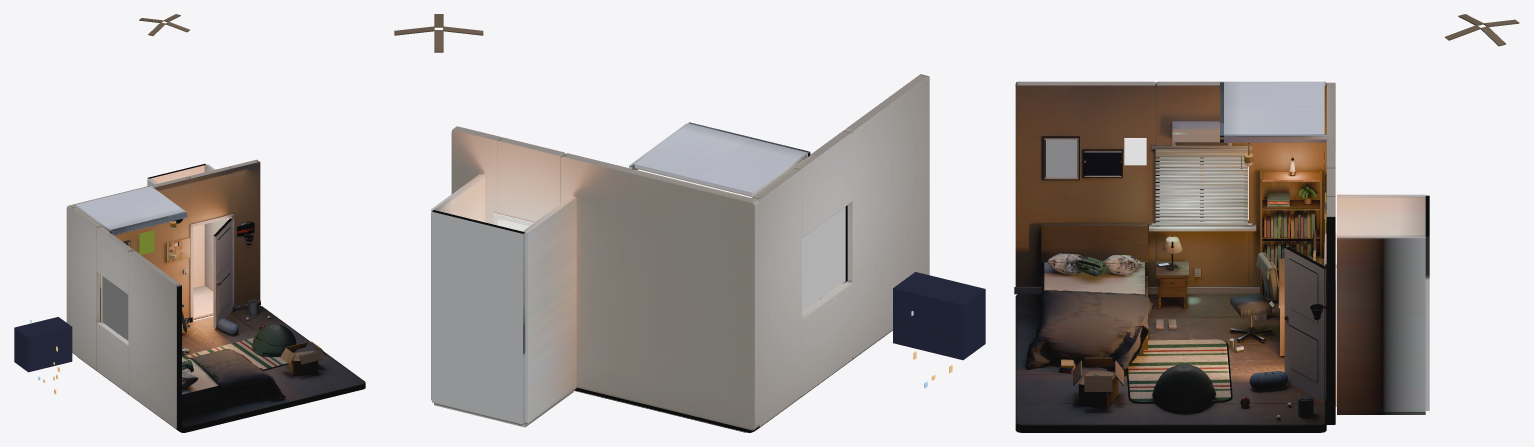
File: bedroom.glb
The picture shows the model from 3 angles, left to right: view 1: azimuth 30°, elevation 25°; view 2: azimuth 150°, elevation 25°; view 3: azimuth 270°, elevation 25°; orthographic projection. The views are drawn at different scales.
Visible parts, largest first — view 1: wL_front.001, g_shell, floor.002, g_bed, wL_back.001, wB_left.001, wB_right.001, g_props, bk_base.001, wB_above.001, wL_below.001, wL_above.001 (+4 smaller); view 2: wB_left.001, g_shell, wL_front.001, wL_back.001, bk_base.001, wB_above.001, wL_below.001, wL_above.001, win_glass.001, wB_right.001, floor.002; view 3: g_shell, g_bed, floor.002, wL_front.001, g_desk, g_props, wL_below.001, rug_fur.001, wL_back.001, wL_above.001, wB_right.001, win_glass.001 (+4 smaller).
Part boxes in pixels (x1,y1,x2,y2): wL_front.001: (128, 250, 181, 428); g_shell: (75, 164, 260, 428); floor.002: (77, 305, 365, 432); g_bed: (182, 222, 285, 412); wL_back.001: (70, 207, 101, 370); wB_left.001: (66, 176, 191, 324); wB_right.001: (229, 159, 260, 306); g_props: (190, 214, 326, 399); bk_base.001: (14, 317, 72, 372); wB_above.001: (189, 166, 231, 223); wL_below.001: (96, 322, 128, 393); wL_above.001: (96, 227, 133, 294); wB_left.001: (560, 153, 759, 430); g_shell: (431, 122, 847, 427); wL_front.001: (845, 74, 929, 358); wL_back.001: (752, 167, 801, 426); bk_base.001: (893, 272, 985, 360); wB_above.001: (497, 137, 565, 222); wL_below.001: (802, 281, 852, 395); wL_above.001: (794, 130, 852, 237); win_glass.001: (802, 208, 844, 311); wB_right.001: (451, 126, 501, 224); floor.002: (573, 330, 892, 432); g_shell: (1014, 81, 1429, 414); g_bed: (1026, 121, 1326, 407); floor.002: (1015, 294, 1326, 432); wL_front.001: (1015, 81, 1156, 286); g_desk: (1229, 151, 1326, 355); g_props: (1073, 233, 1336, 418); wL_below.001: (1156, 220, 1248, 286); rug_fur.001: (1128, 339, 1230, 401); wL_back.001: (1249, 81, 1326, 286); wL_above.001: (1156, 81, 1247, 145); wB_right.001: (1326, 197, 1335, 424); win_glass.001: (1159, 157, 1244, 221).
Size of the model in its own units: 6.4 by 5.62 by 6.82.
43 materials, 39 textured.
